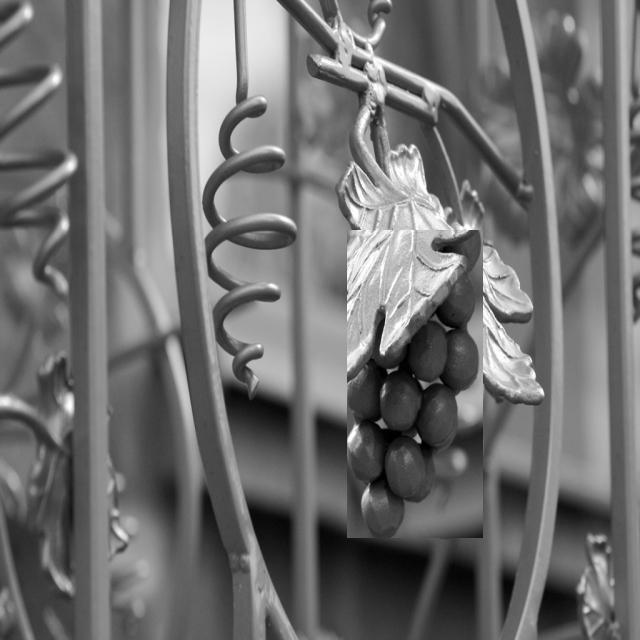Grape: (347, 230, 483, 538)
